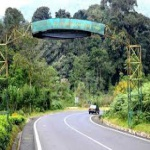Animal: (4, 12, 150, 100)
Road: (14, 90, 148, 150)
